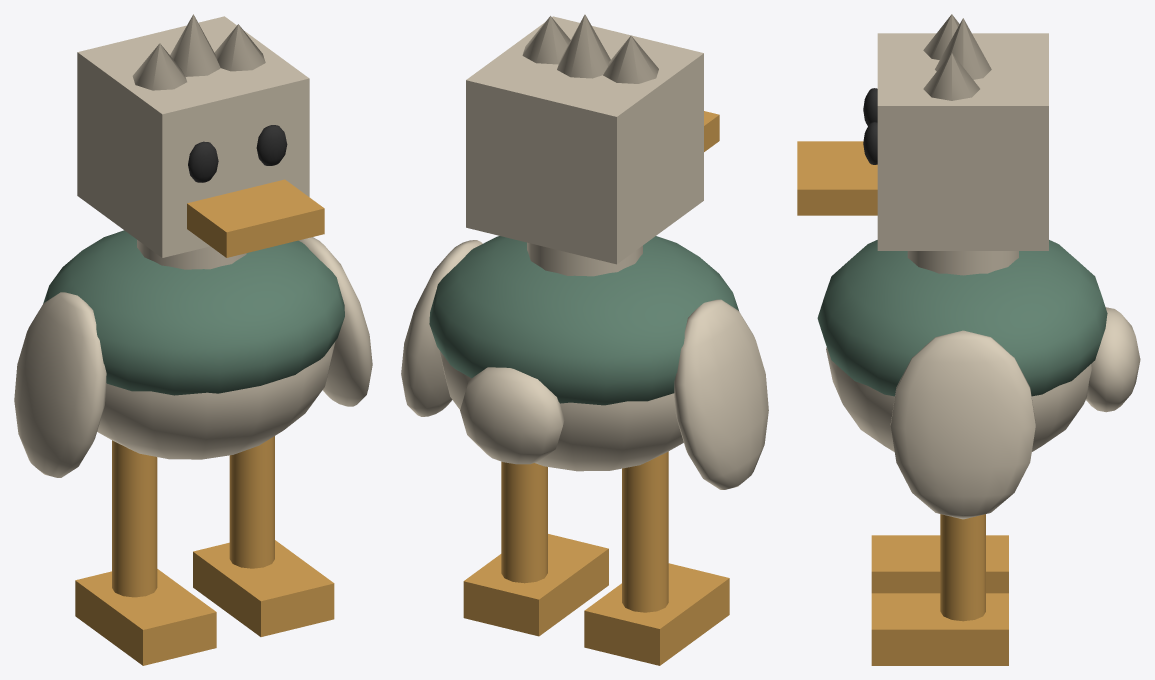
The model's file is pato.glb.
3 renders of one model, left to right at view 1: azimuth 30°, elevation 25°; view 2: azimuth 150°, elevation 25°; view 3: azimuth 270°, elevation 25°, orthographic. The views are drawn at different scales.
Parts seen in each view (by area): view 1: Pato; view 2: Pato; view 3: Pato.
Boxes of the visible parts, x1=… form: Pato: x1=14, y1=14, x2=372, y2=665; Pato: x1=401, y1=14, x2=768, y2=665; Pato: x1=797, y1=14, x2=1140, y2=665.
Size of the model in its own units: 0.6571 by 1.16 by 0.6.
